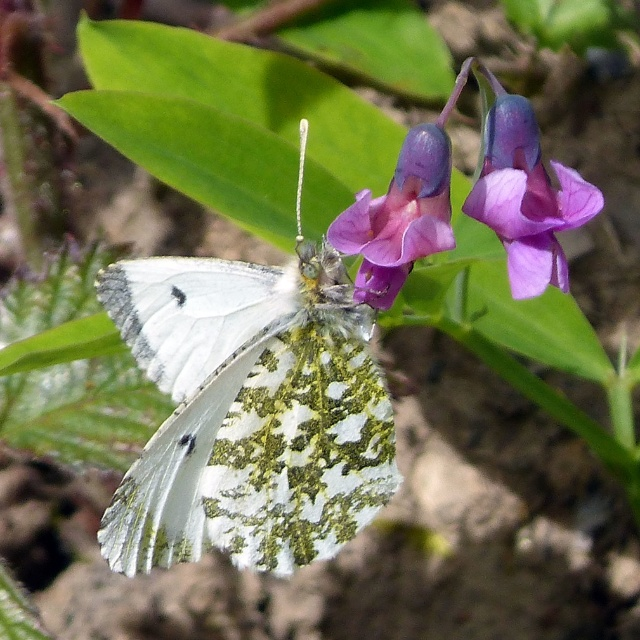Butterfly: (99, 119, 399, 579)
